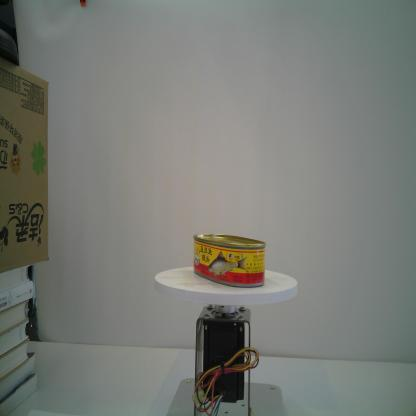Canned Food: (193, 233, 267, 288)
